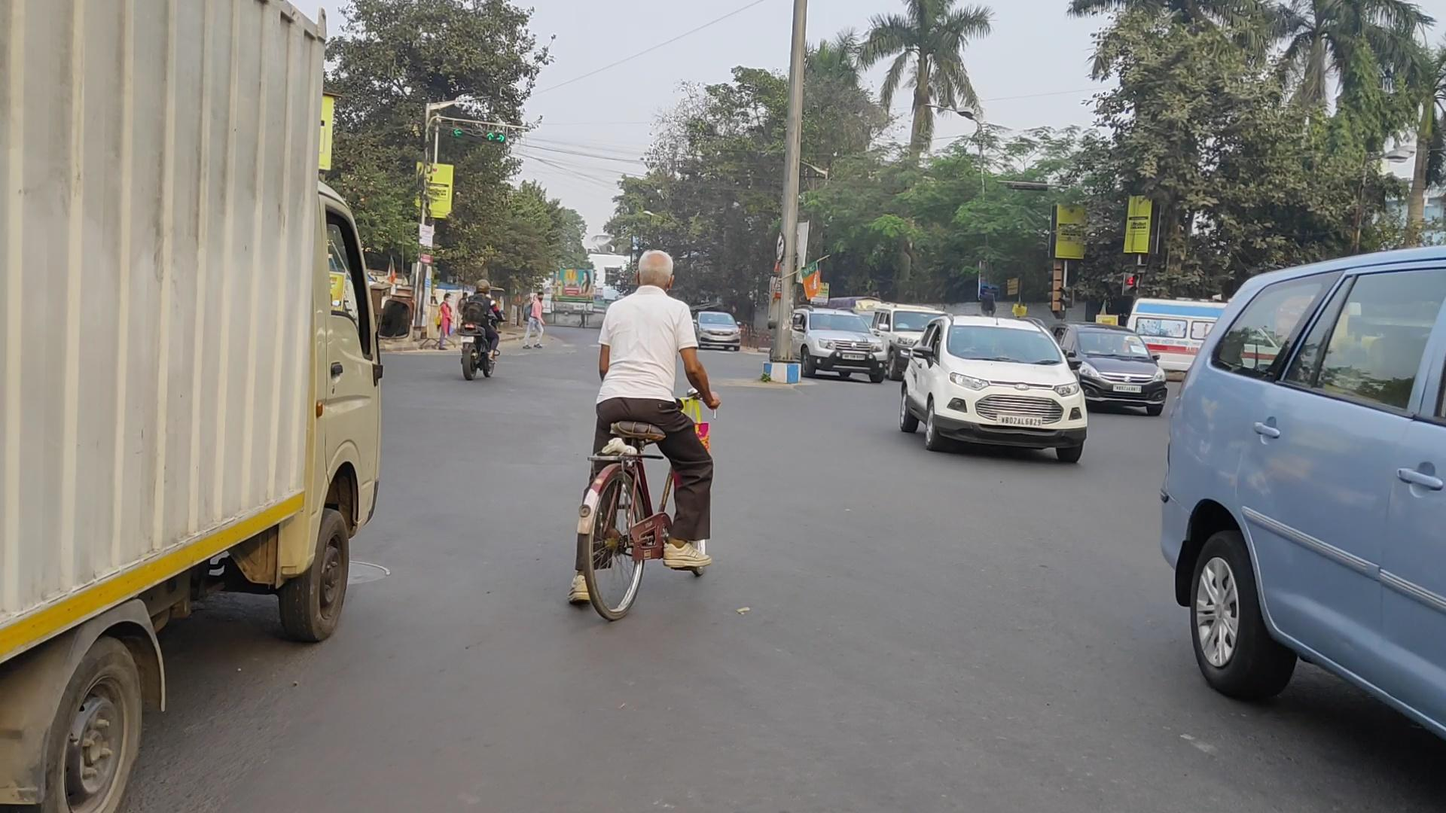bike: (570, 250, 721, 623), (458, 279, 508, 380)
car: (1159, 243, 1446, 813), (899, 312, 1087, 464), (1051, 320, 1167, 419), (787, 304, 889, 385), (871, 303, 954, 381), (693, 309, 743, 352)
van: (1, 4, 415, 813), (1124, 294, 1296, 385)
